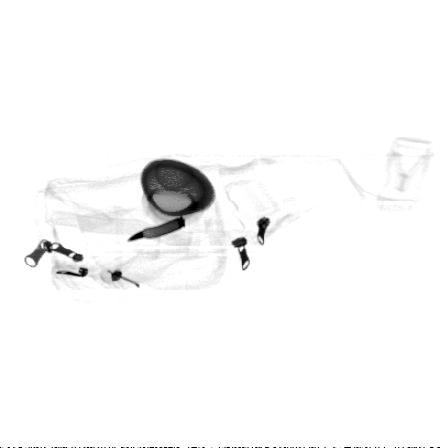Bullet: (125, 215, 187, 243)
